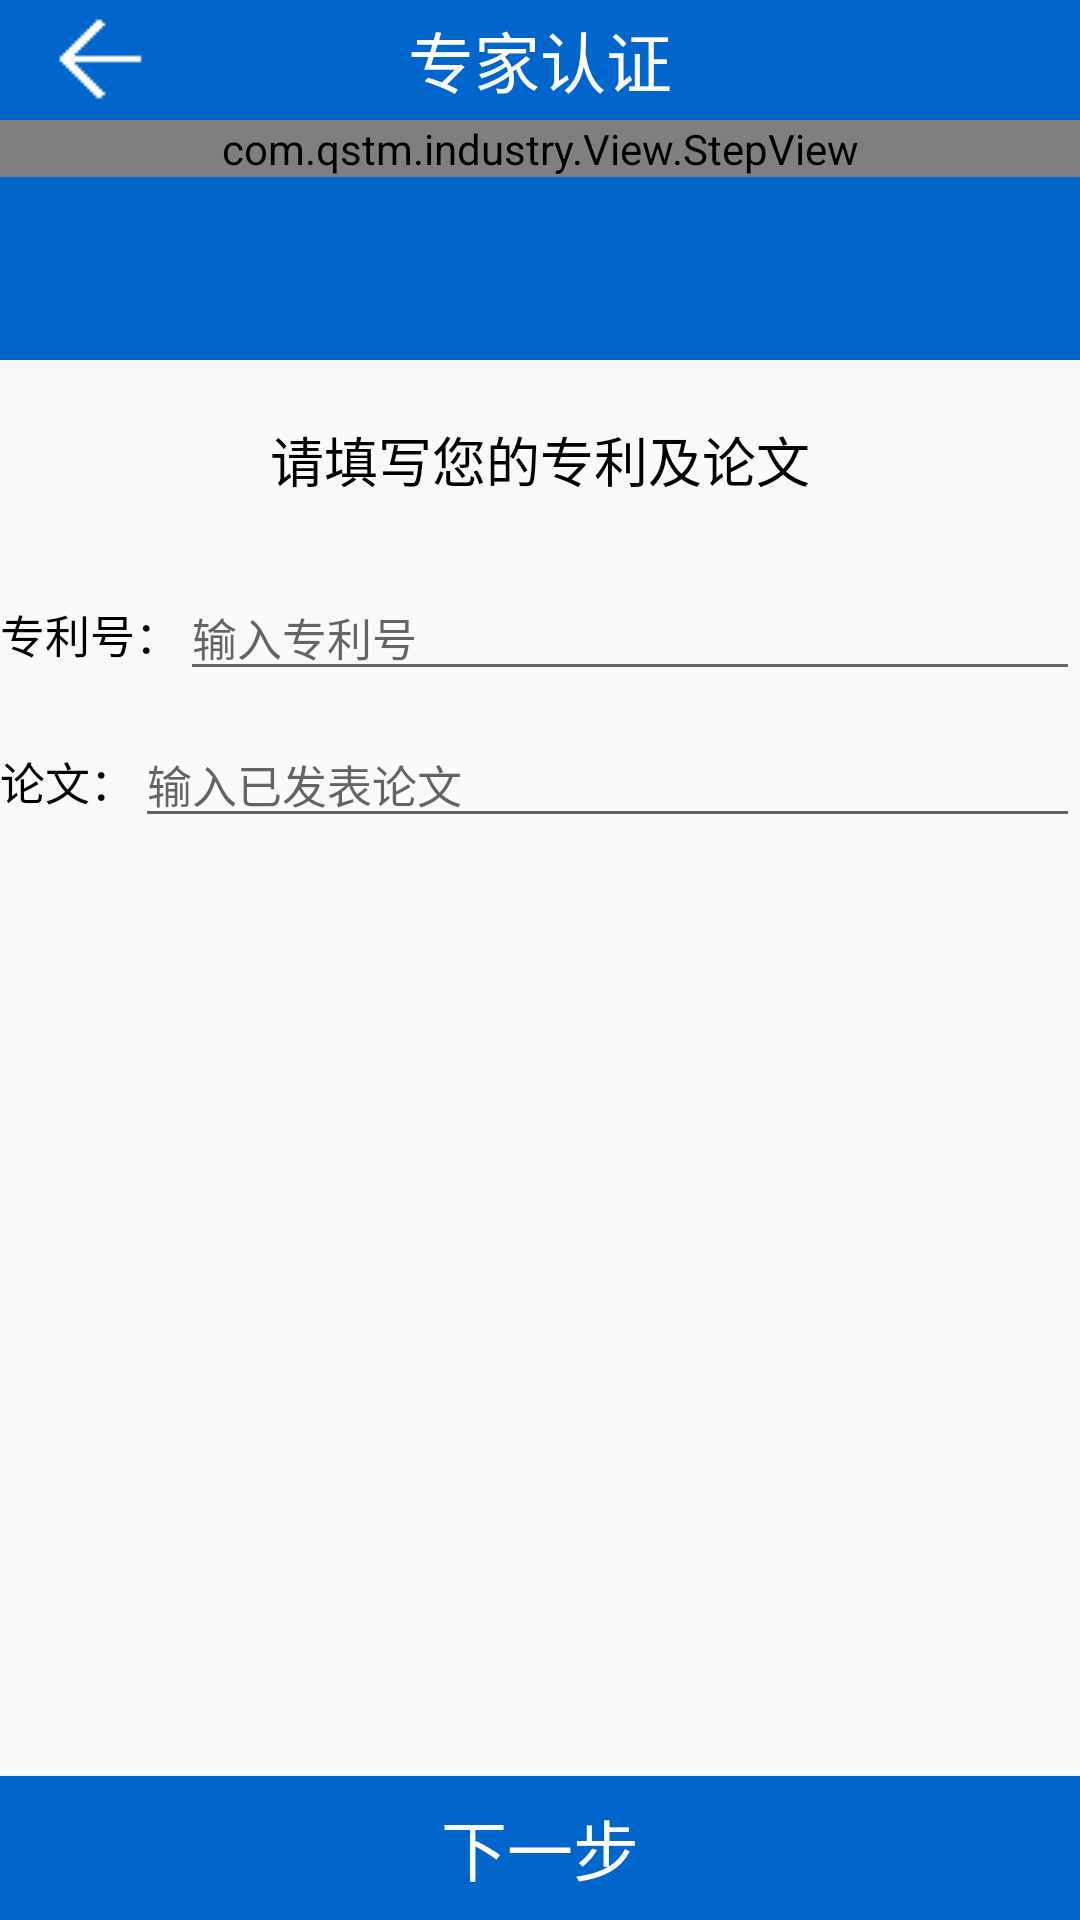

Icons on this 1080 × 1920 Android screen, each with the point to tap as (x,y):
back: (100,59)
